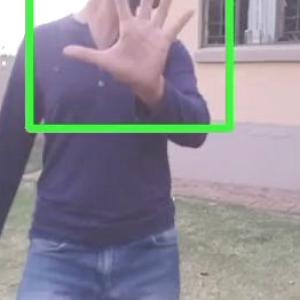follow_hand: (59, 0, 204, 98)
